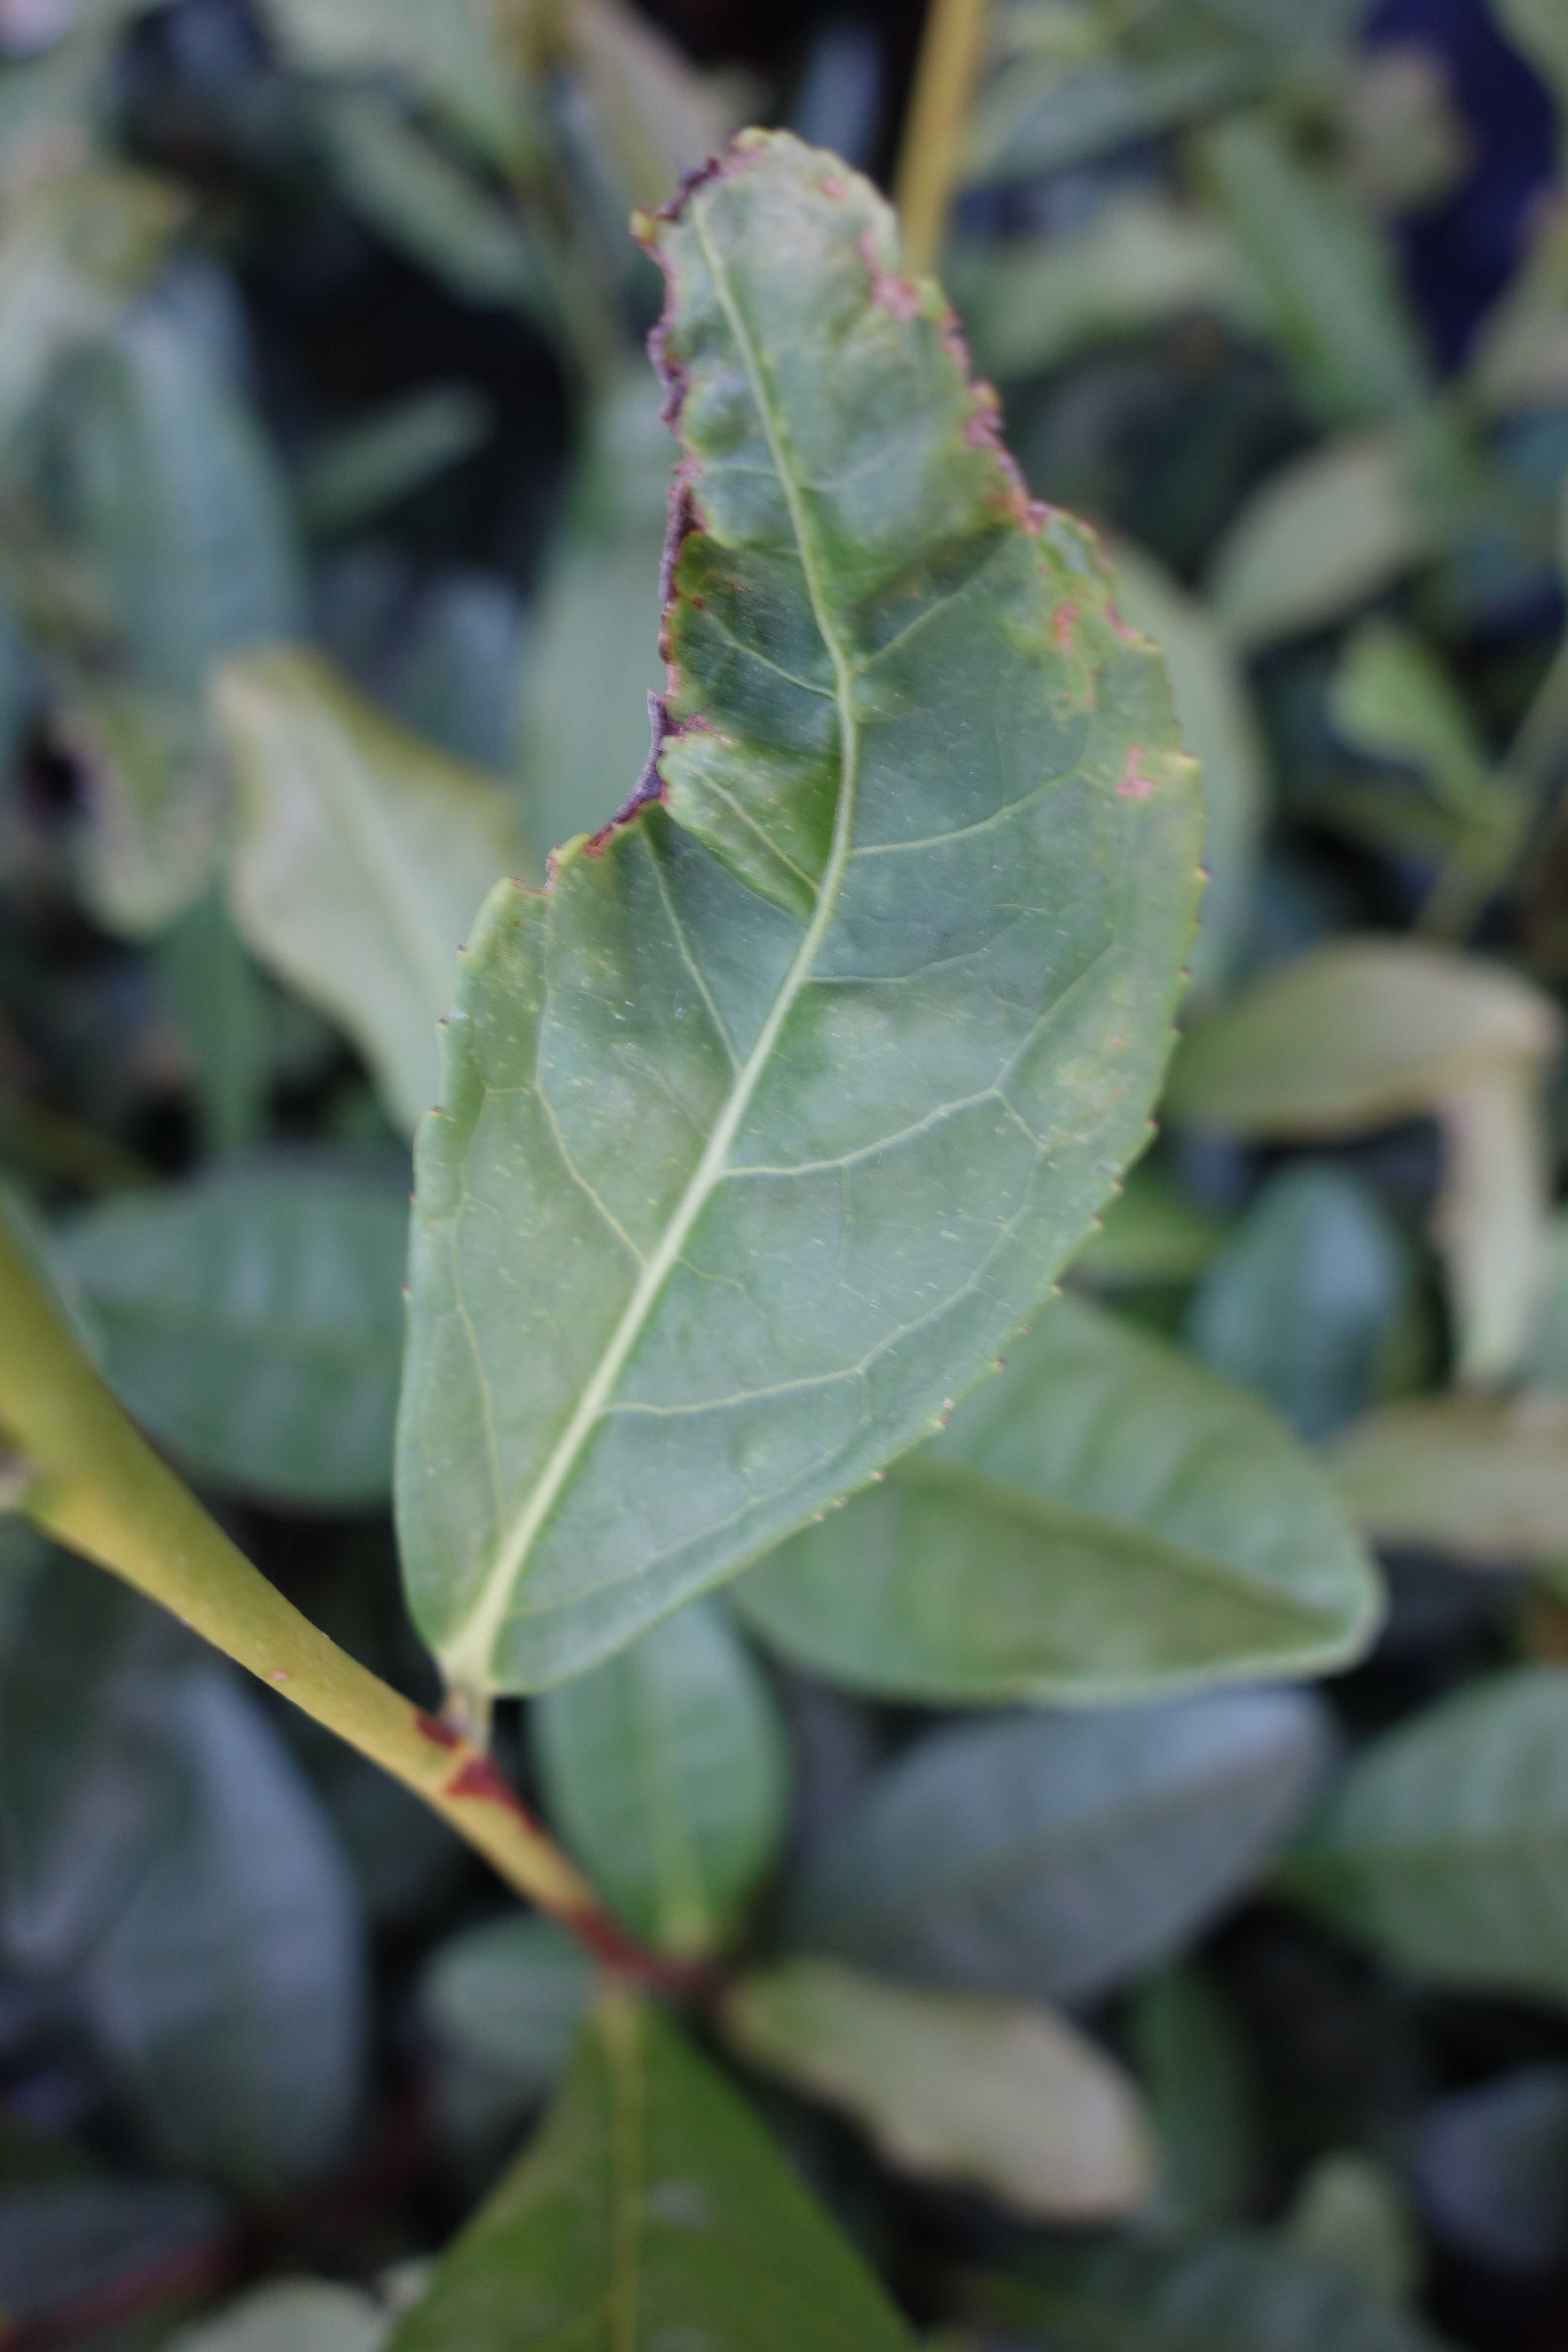chihuo_high: (390, 131, 1206, 1704)
